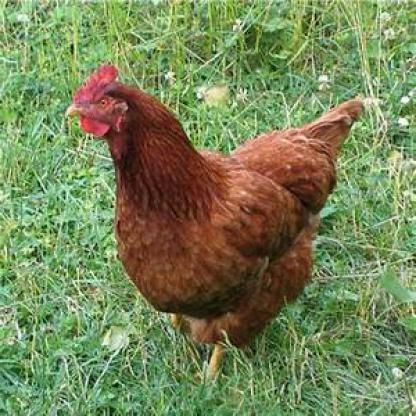chicken: (62, 61, 369, 380)
